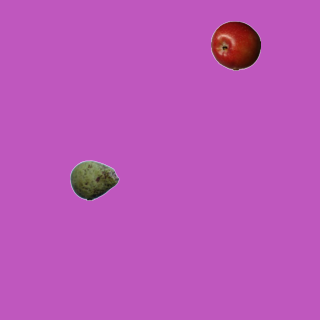Apple Braeburn: (210, 20, 260, 70)
Pear Stone: (69, 155, 119, 205)
